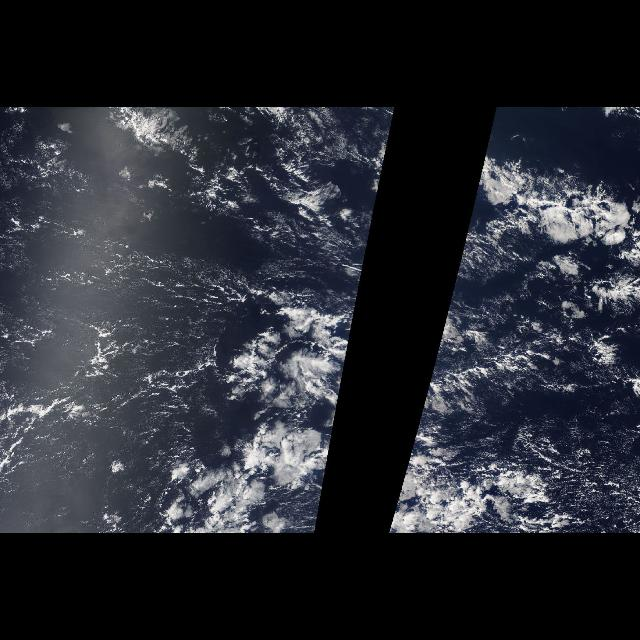Fish: (386, 155, 636, 531), (160, 283, 360, 532)
Gravel: (1, 236, 228, 489)
Sugar: (0, 238, 224, 488)
